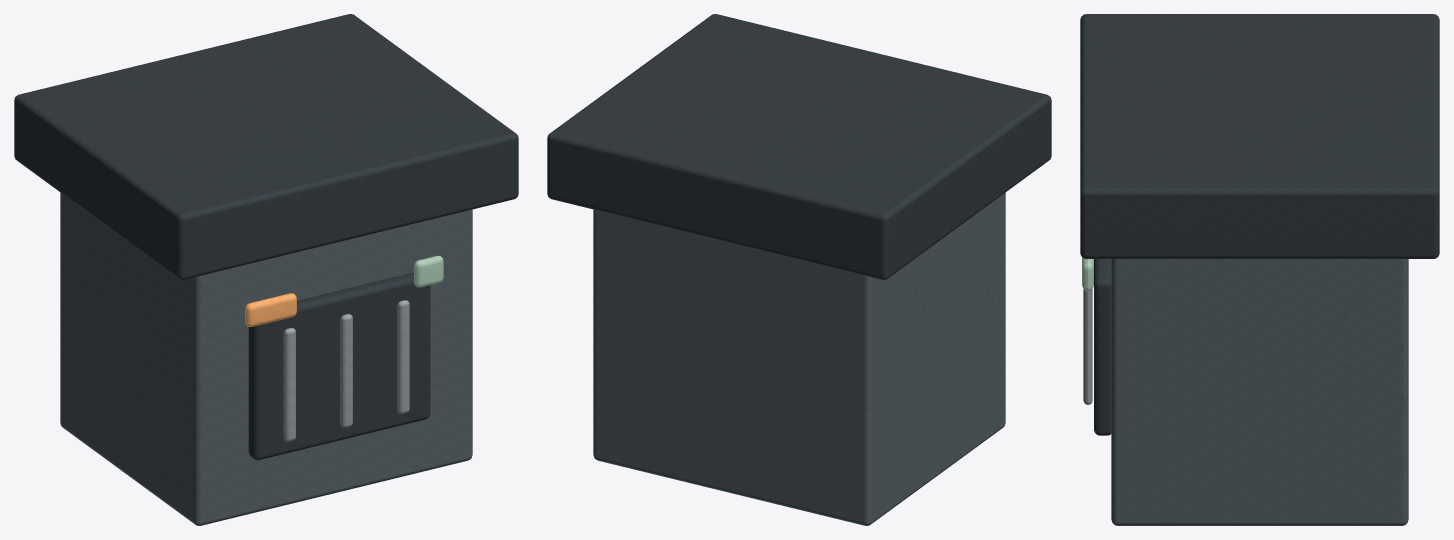
The model's file is CeilingAirQualitySampler.glb.
The picture shows the model from 3 angles, left to right: view 1: azimuth 30°, elevation 25°; view 2: azimuth 150°, elevation 25°; view 3: azimuth 270°, elevation 25°; orthographic projection. The views are drawn at different scales.
Visible parts, largest first — view 1: CeilingAirQualitySampler_Mesh; view 2: CeilingAirQualitySampler_Mesh; view 3: CeilingAirQualitySampler_Mesh.
Boxes of the visible parts, bbox=[...] form: CeilingAirQualitySampler_Mesh: bbox=[14, 14, 518, 525]; CeilingAirQualitySampler_Mesh: bbox=[547, 14, 1051, 525]; CeilingAirQualitySampler_Mesh: bbox=[1080, 14, 1439, 525].
Size of the model in its own units: 0.54 by 0.5 by 0.46.
5 materials, 5 textured.
